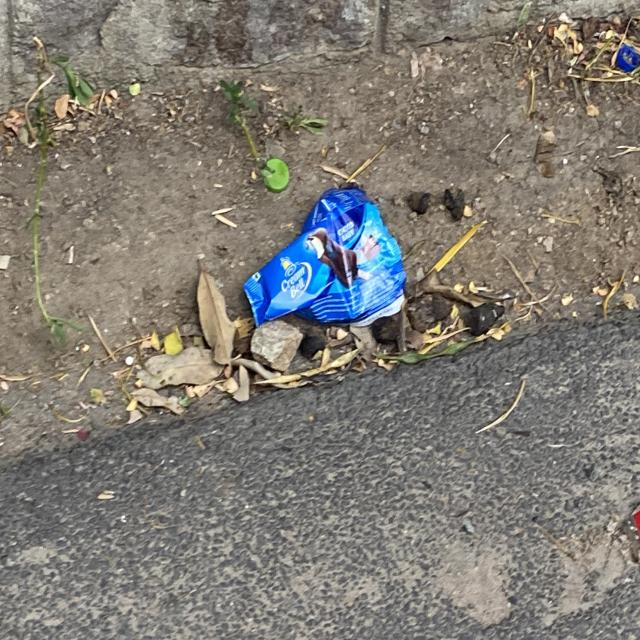wrapper: (244, 185, 405, 326)
